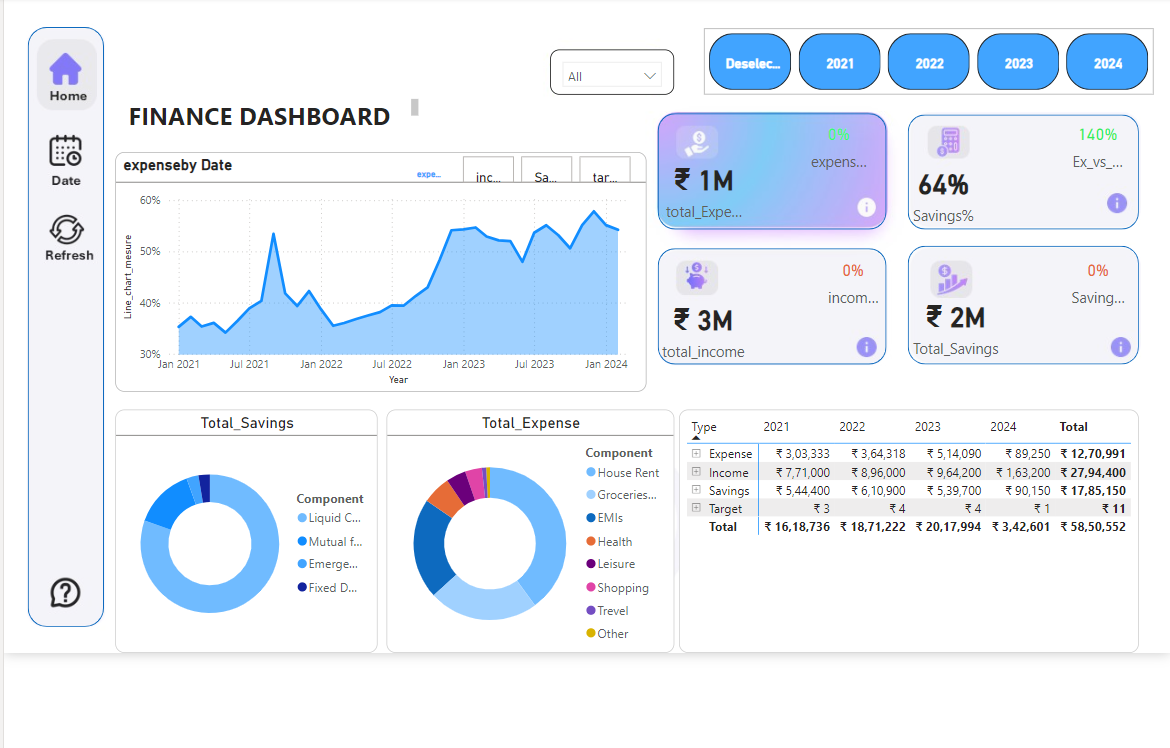

The page's visual inventory and layout, read from the dashboard file:
{"tool":"powerbi","page":{"name":"Page 1","canvas":[1280,720],"ordinal":0},"visuals":[{"type":"shape","box":[992.1,273.1,253.9,130.4],"z":0},{"type":"shape","box":[717.7,275.8,251.1,127.6],"z":1000},{"type":"shape","box":[717.7,127.6,251.1,127.6],"z":2000},{"type":"shape","box":[992.1,129,253.9,126.2],"z":3000},{"type":"card","fields":{"Values":["FinData.total_Expense"]},"box":[717.7,174.3,101.5,81],"z":4000},{"type":"card","fields":{"Values":["FinData.Savings%"]},"box":[968.8,170.2,124.9,89.2],"z":5000},{"type":"card","fields":{"Values":["FinData.Total_Savings"]},"box":[982.5,319.7,124.9,81],"z":6000},{"type":"card","fields":{"Values":["FinData.total_income"]},"box":[705.3,319.7,124.9,89.2],"z":7000},{"type":"advancedSlicerVisual","fields":{"Values":["FinData.year"]},"box":[768.6,46.9,493.4,72.3],"z":8000},{"type":"donutChart","title":"Total_Savings ","fields":{"Y":["FinData.Total_Savings"],"Category":["FinData.Component"]},"box":[122.1,452.8,288.2,267.6],"z":9000},{"type":"donutChart","title":"Total_Expense ","fields":{"Y":["FinData.total_Expense"],"Category":["FinData.Component"]},"box":[419.9,452.8,315.6,267.6],"z":10000},{"type":"pivotTable","fields":{"Rows":["FinData.Type","FinData.Component"],"Columns":["FinData.year"],"Values":["FinData.Total_value"]},"box":[741,452.8,505,267.6],"z":11000},{"type":"areaChart","fields":{"Category":["FinData.date.Variation.Date Hierarchy.Year","FinData.date.Variation.Date Hierarchy.Quarter","FinData.date.Variation.Date Hierarchy.Month","FinData.date.Variation.Date Hierarchy.Day"],"Y":["FinData.Line_chart_mesure"]},"box":[122.1,170.2,583.2,263.5],"z":12000},{"type":"advancedSlicerVisual","fields":{"Values":["Line_selection_table.type"]},"box":[435,170.2,259.3,39.8],"z":13000},{"type":"textbox","box":[131.7,107,328,41.2],"z":14000},{"type":"shape","box":[26.1,32.9,83.7,658.7],"z":15000},{"type":"card","fields":{"Values":["FinData.Savings_monthly_growth"]},"box":[1165,275.8,72.7,71.4],"z":16000},{"type":"card","fields":{"Values":["FinData.expense_monthly_growth"]},"box":[881,129,71.4,65.9],"z":17000},{"type":"card","fields":{"Values":["FinData.income_monthly_growth"]},"box":[896.1,275.8,72.7,71.4],"z":18000},{"type":"card","fields":{"Values":["FinData.Ex_vs_Sav"]},"box":[1165,129,71.4,65.9],"z":19000},{"type":"slicer","fields":{"Values":["FinData.month yr"]},"box":[599.7,57.6,135.8,49.4],"z":20000},{"type":"actionButton","box":[26.7,142.4,83,57.8],"z":21000},{"type":"actionButton","box":[26.8,228.4,83.9,73.2],"z":22001},{"type":"actionButton","box":[26.7,235.8,83,57.8],"z":22002},{"type":"actionButton","box":[32.1,237.4,78.5,57.1],"z":22003},{"type":"actionButton","box":[34.2,235.9,73.6,58.3],"z":22004}]}

Visuals, with their boxes on the page's 1280x720 design canvas (x1, y1, x2, y2). These are canvas units, not pixel positions in the 1170x748 screenshot, which may show the page scaled, cropped or inside an application window:
shape: rect(992, 273, 1246, 404)
shape: rect(718, 276, 969, 403)
shape: rect(718, 128, 969, 255)
shape: rect(992, 129, 1246, 255)
card - FinData.total_Expense: rect(718, 174, 819, 255)
card - FinData.Savings%: rect(969, 170, 1094, 259)
card - FinData.Total_Savings: rect(982, 320, 1107, 401)
card - FinData.total_income: rect(705, 320, 830, 409)
advancedSlicerVisual - FinData.year: rect(769, 47, 1262, 119)
"Total_Savings " donutChart: rect(122, 453, 410, 720)
"Total_Expense " donutChart: rect(420, 453, 736, 720)
pivotTable - FinData.Type x FinData.Component: rect(741, 453, 1246, 720)
areaChart - FinData.date.Variation.Date Hierarchy.Year x FinData.date.Variation.Date Hierarchy.Quarter: rect(122, 170, 705, 434)
advancedSlicerVisual - Line_selection_table.type: rect(435, 170, 694, 210)
textbox: rect(132, 107, 460, 148)
shape: rect(26, 33, 110, 692)
card - FinData.Savings_monthly_growth: rect(1165, 276, 1238, 347)
card - FinData.expense_monthly_growth: rect(881, 129, 952, 195)
card - FinData.income_monthly_growth: rect(896, 276, 969, 347)
card - FinData.Ex_vs_Sav: rect(1165, 129, 1236, 195)
slicer - FinData.month yr: rect(600, 58, 736, 107)
actionButton: rect(27, 142, 110, 200)
actionButton: rect(27, 228, 111, 302)
actionButton: rect(27, 236, 110, 294)
actionButton: rect(32, 237, 111, 294)
actionButton: rect(34, 236, 108, 294)
